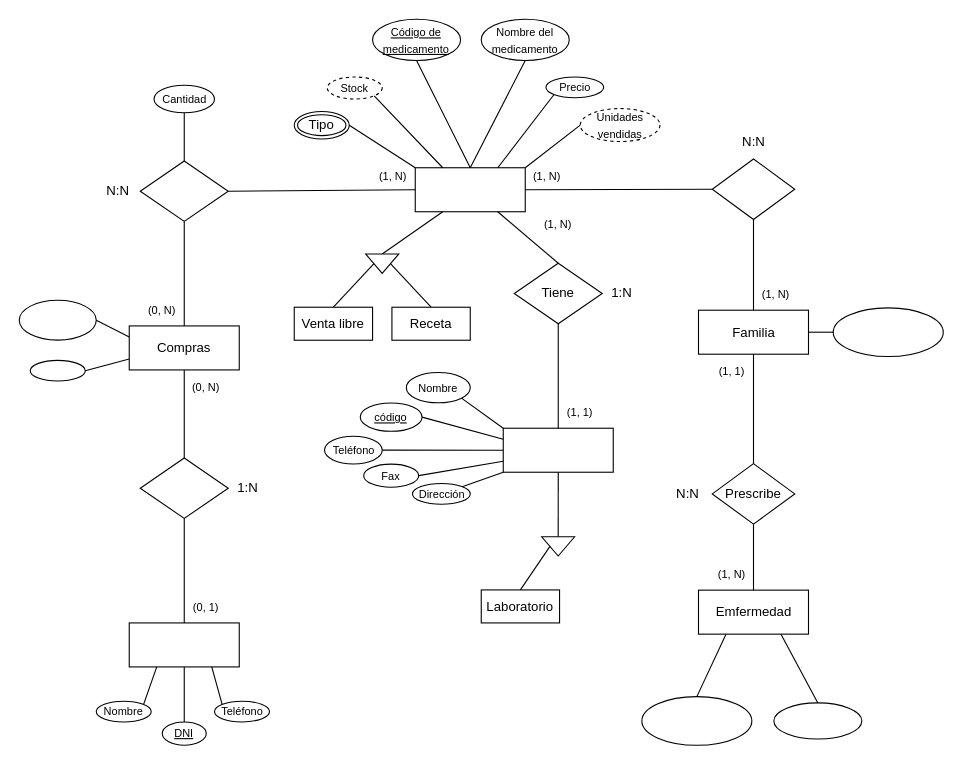
Some shapes in this 963 by 765 pixel diagram are drawn without their labels. The centre of each missing label's shape, as x and y in pixels:
Características: the point at 817,720
Clientes de crédito: the point at 183,644
Código de compra: the point at 57,319
Fabricante: the point at 557,449
Importe: the point at 57,370
Medicamento: the point at 469,189
Nombre de la emfermedad: the point at 696,720
Nombre de la familia de medicamentos: the point at 887,332
Pertenece: the point at 753,188
Realiza: the point at 183,487
Venta: the point at 183,190
